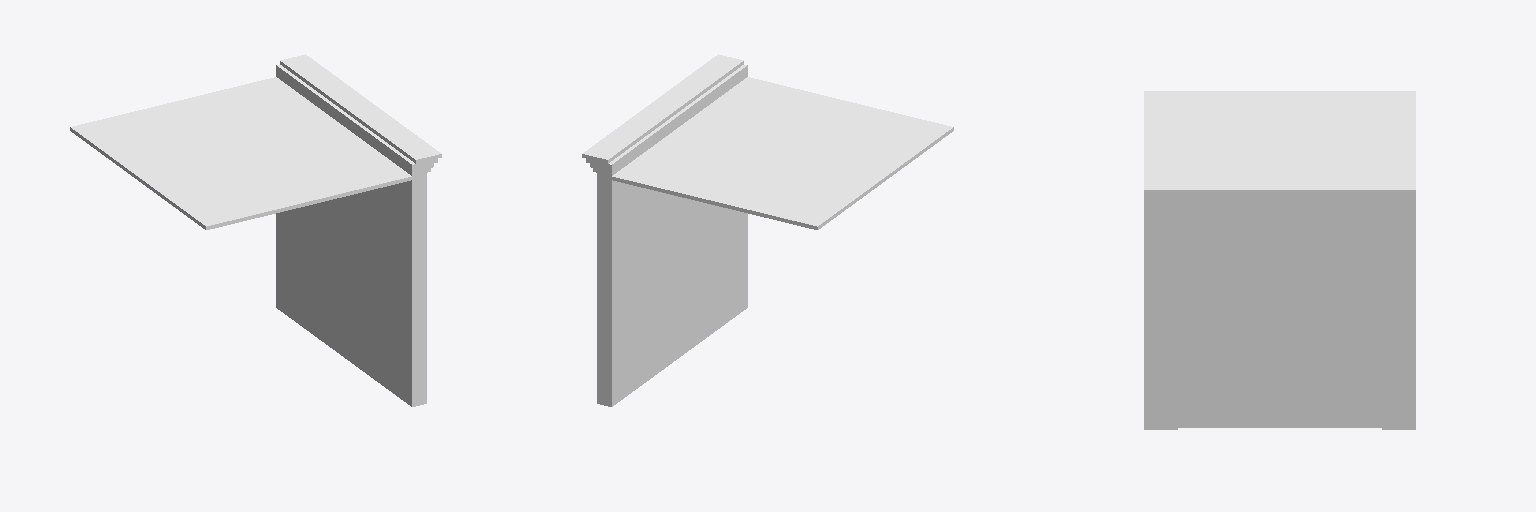
The model's file is old_brick_peach_door_t.obj.
3 renders of one model, left to right at view 1: azimuth 30°, elevation 25°; view 2: azimuth 150°, elevation 25°; view 3: azimuth 270°, elevation 25°, orthographic.
Size of the model in its own units: 64 by 64 by 64.